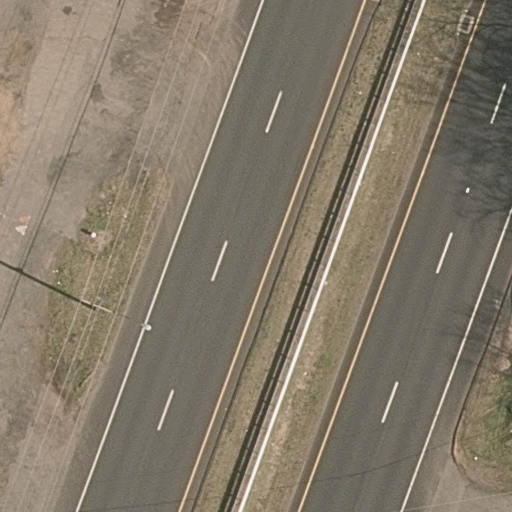DT: (69, 290, 158, 340)
